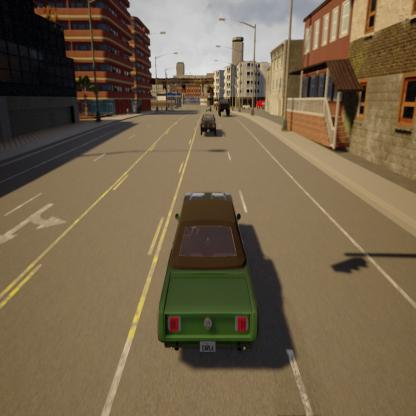Cars: (154, 180, 266, 363), (197, 108, 221, 135), (217, 100, 232, 117)
